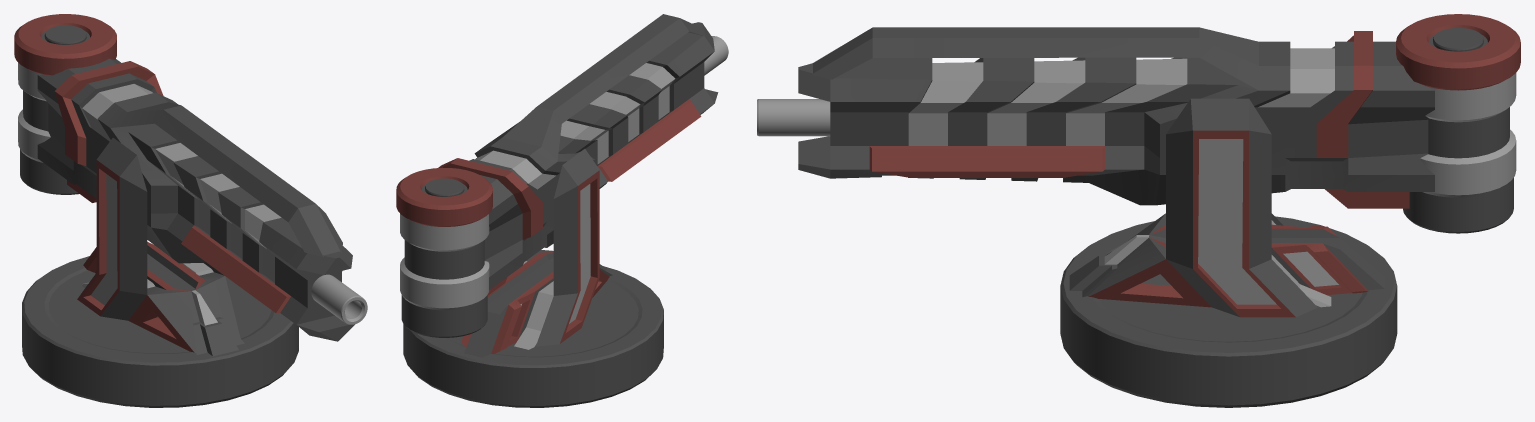
File: NXMachineGun.fbx
3 views of the same model, side by side, from view 1: azimuth 30°, elevation 25°; view 2: azimuth 150°, elevation 25°; view 3: azimuth 270°, elevation 25° (orthographic). The views are drawn at different scales.
Visible parts, largest first — view 1: Cube.001, Cylinder, Cube, Cylinder.001, Cylinder.002; view 2: Cube.001, Cylinder, Cylinder.001, Cube, Cylinder.002; view 3: Cube.001, Cube, Cylinder, Cylinder.001, Cylinder.002.
Part boxes in pixels (box(x1,y1,x2,y2)): Cube.001: box(37, 58, 354, 341); Cylinder: box(22, 256, 298, 407); Cube: box(77, 137, 244, 356); Cylinder.001: box(14, 14, 116, 194); Cylinder.002: box(311, 274, 367, 324); Cube.001: box(438, 14, 718, 295); Cylinder: box(403, 266, 663, 407); Cylinder.001: box(396, 167, 492, 337); Cube: box(461, 149, 612, 357); Cylinder.002: box(704, 36, 728, 75); Cube.001: box(798, 27, 1434, 208); Cube: box(1069, 98, 1384, 317); Cylinder: box(1060, 216, 1397, 407); Cylinder.001: box(1396, 14, 1520, 233); Cylinder.002: box(757, 99, 830, 136).
Size of the model in its own units: 268 by 269 by 609.
